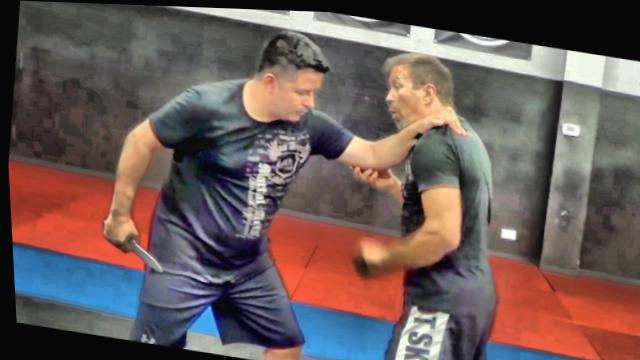knife: (93, 218, 164, 273)
